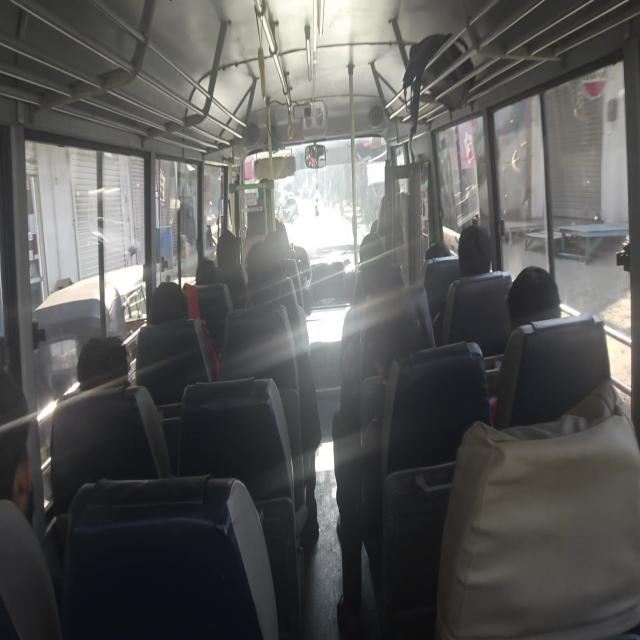person: (245, 239, 321, 540), (50, 334, 170, 513), (494, 264, 614, 430), (435, 224, 493, 343), (506, 264, 561, 331), (0, 422, 34, 519), (76, 334, 130, 392), (213, 229, 248, 307), (457, 224, 492, 278)
